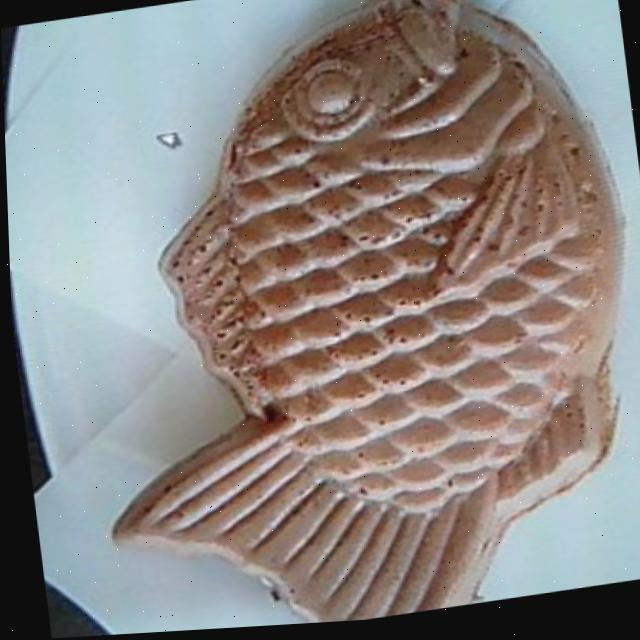熟制海鲜: (33, 0, 640, 638)
